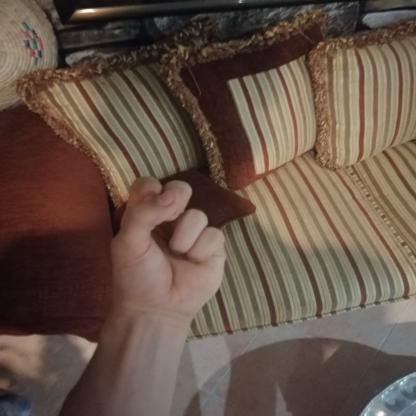QAAF: (90, 166, 244, 326)
